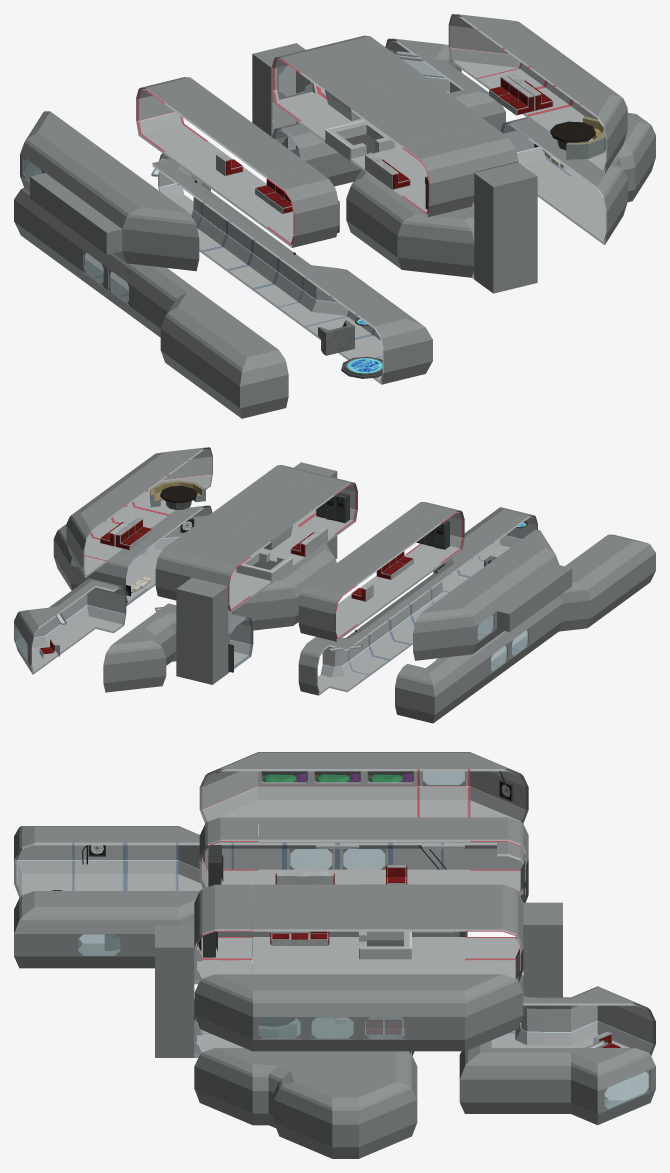
Rendered from BuildingSperated.fbx.
3 renders of one model, top to bottom at view 1: azimuth 30°, elevation 25°; view 2: azimuth 150°, elevation 25°; view 3: azimuth 270°, elevation 25°, orthographic. The views are drawn at different scales.
Visible parts, largest first — view 1: Building; view 2: Building; view 3: Building.
Part boxes in pixels (box(x1,y1,x2,y2)): Building: box(14, 14, 655, 418); Building: box(14, 447, 655, 723); Building: box(14, 752, 655, 1158).
Size of the model in its own units: 13.2 by 2.68 by 12.1.
Materials: 17 (17 with a texture image).
